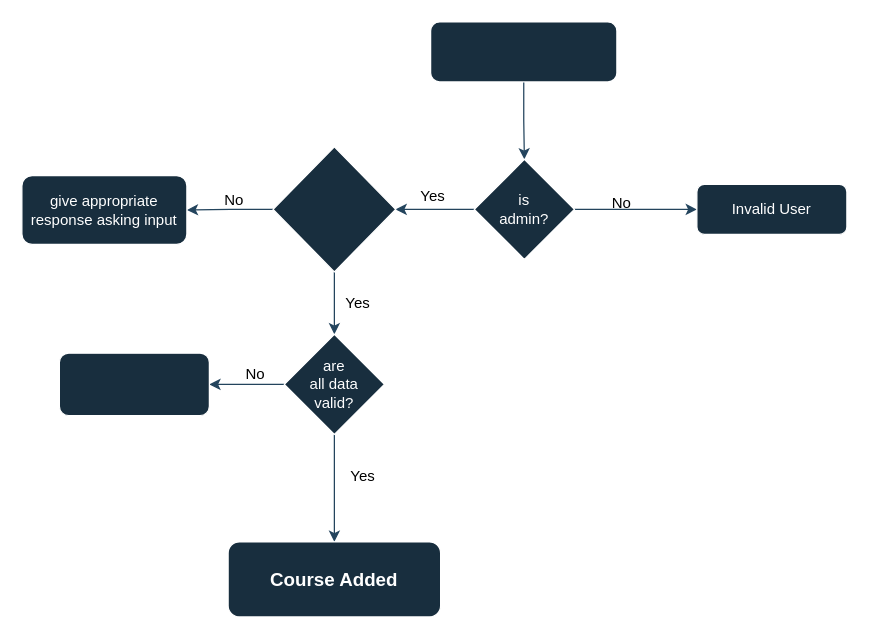
Some shapes in this 869 by 639 pixel diagram are drawn without their labels. Each missing label, with the centre of its shape:
"Add Course" goes at point 523,51.
"all required input given?" goes at point 334,209.
"Give appropriate response" goes at point 133,384.
